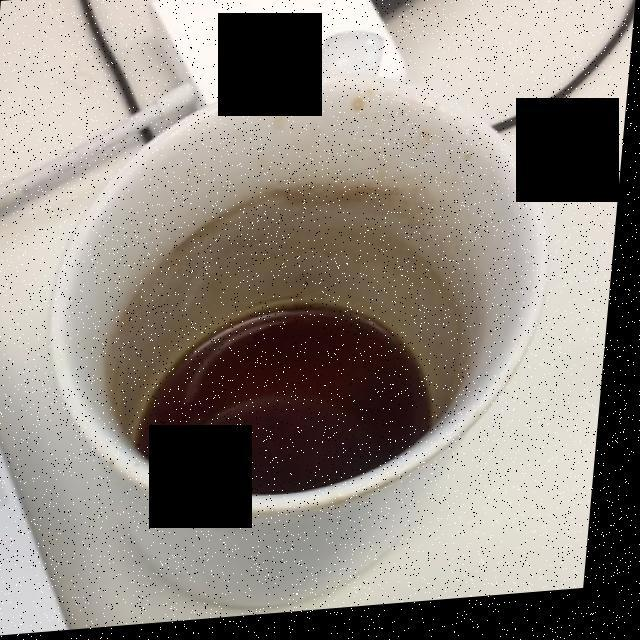coffee: (142, 315, 436, 495)
